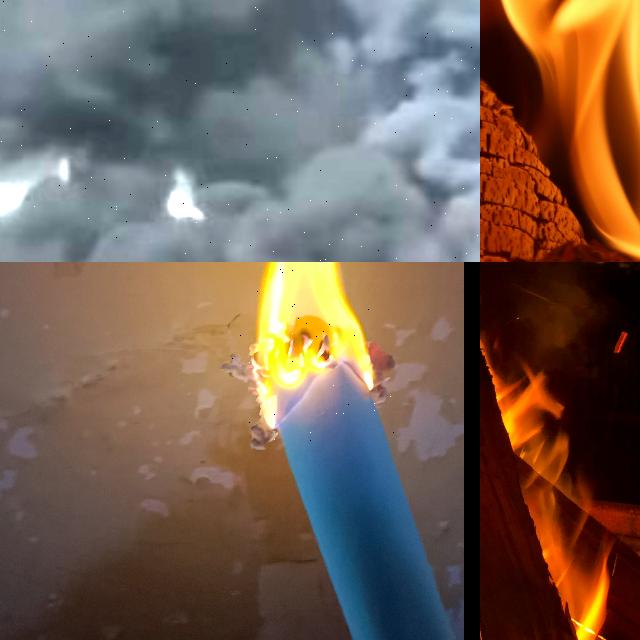fire: (502, 0, 640, 260), (225, 262, 394, 449), (495, 375, 568, 480)
smoke: (0, 0, 480, 262)
